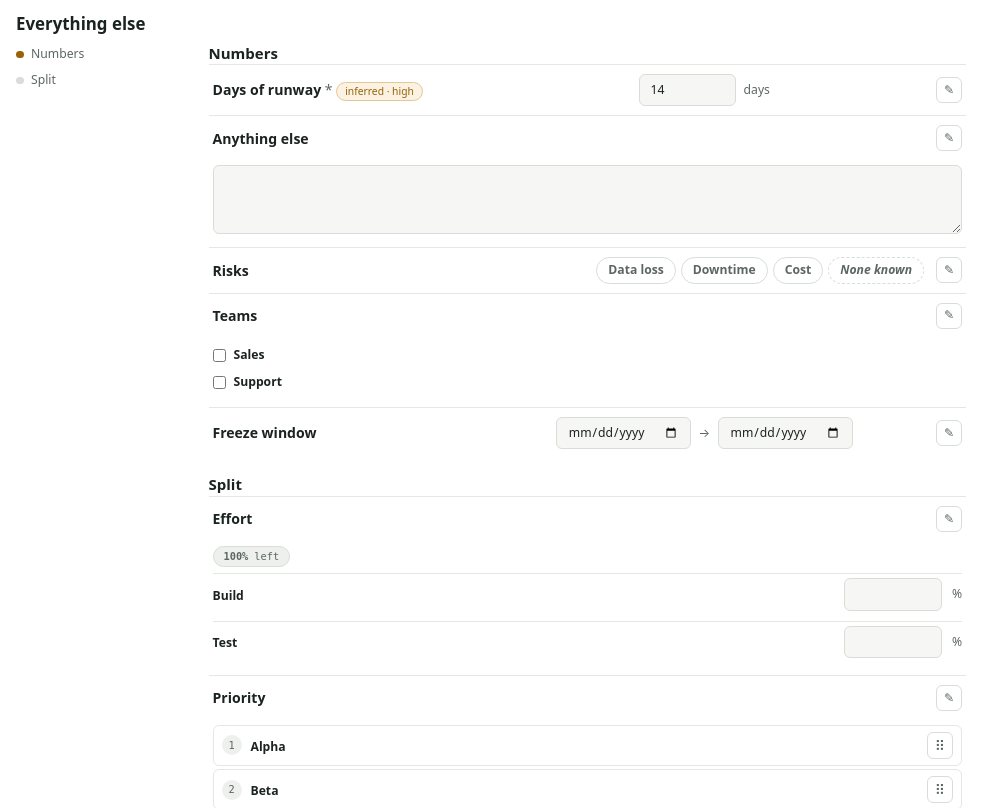
allocation — the constraint is on the set (§4.2) › counts down what is left to allocate
Expected: the element named "100 % of 100 % left to allocate" is shown, [212,546,290,567]
Type "60" into the number field named "Build". click: (893, 594)
box: [844,578,942,611]
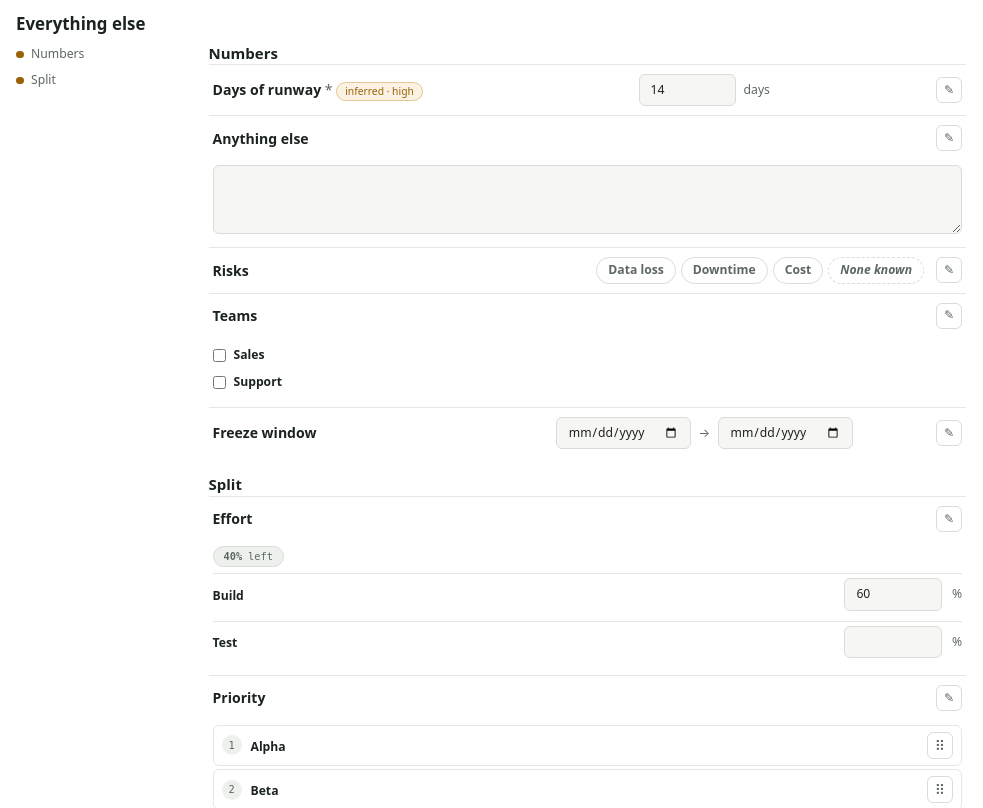
Expected: the element named "40 % of 100 % left to allocate" is shown, [212,546,284,567]
